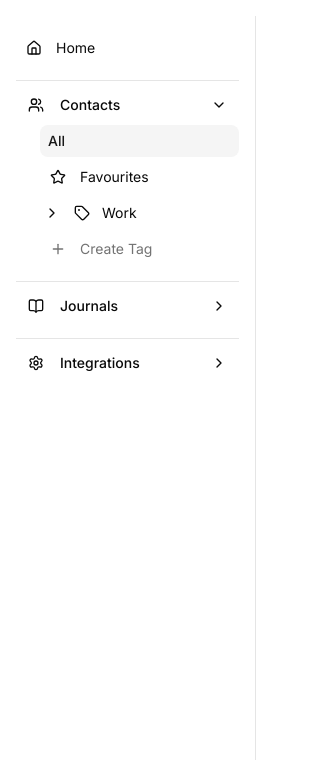
Scenario: Sidebar - Dynamic Tags › should expand and collapse tag tree children on click
The width and height of the screenshot is (320, 760).
Click expand toggle
Click the button with test id "tag-toggle-1" at (52, 213), box [40,201,64,225]
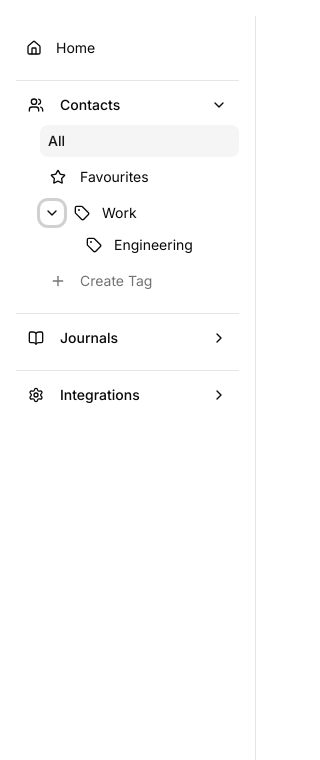
Check: the text "Engineering" is shown, box [114,235,193,255]
Check: the button with test id "tag-toggle-1" is expanded
Click again to collapse
Click the button with test id "tag-toggle-1" at (52, 213), box [40,201,64,225]
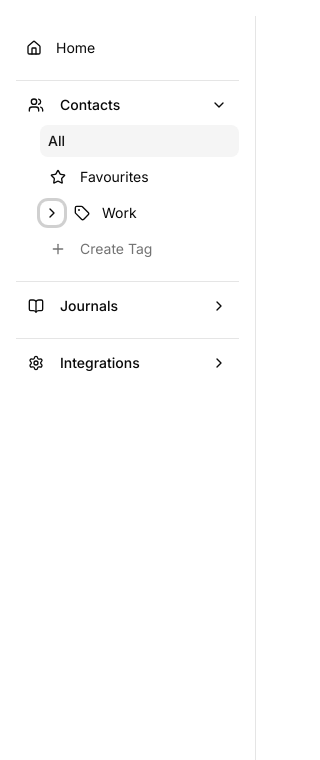
Check: the link "Engineering" is gone
Check: the button with test id "tag-toggle-1" is collapsed, box [40,201,64,225]
